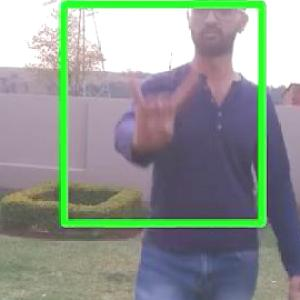takeoff-hand: (113, 52, 200, 149)
